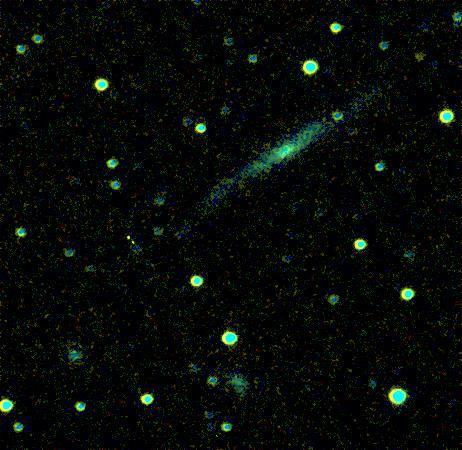star: (405, 43, 435, 73)
